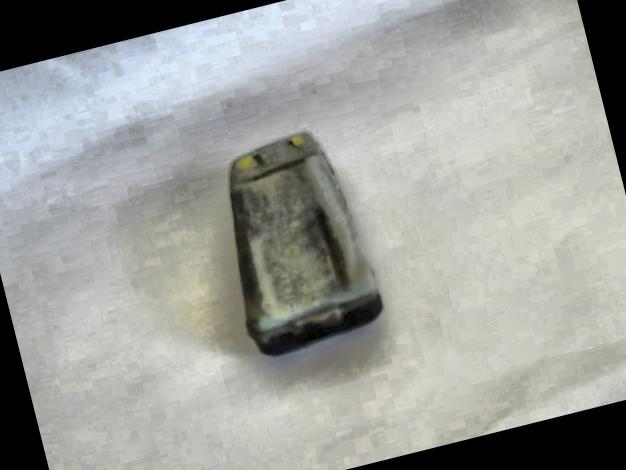normal_car: (199, 120, 395, 365)
